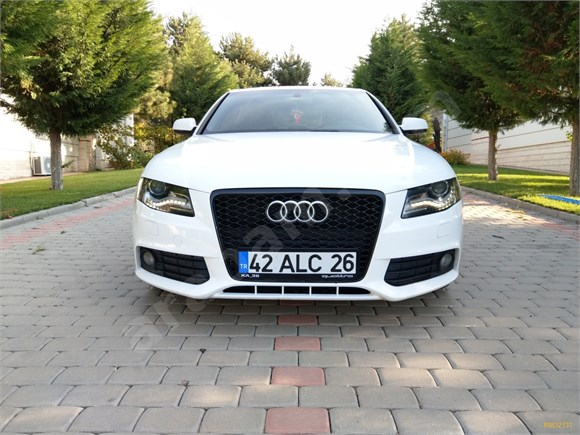audi: (259, 196, 332, 227)
